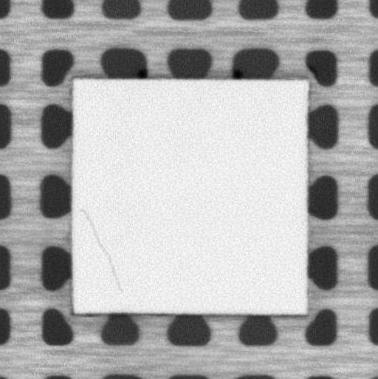DIE_CRACK: (81, 208, 125, 294)
